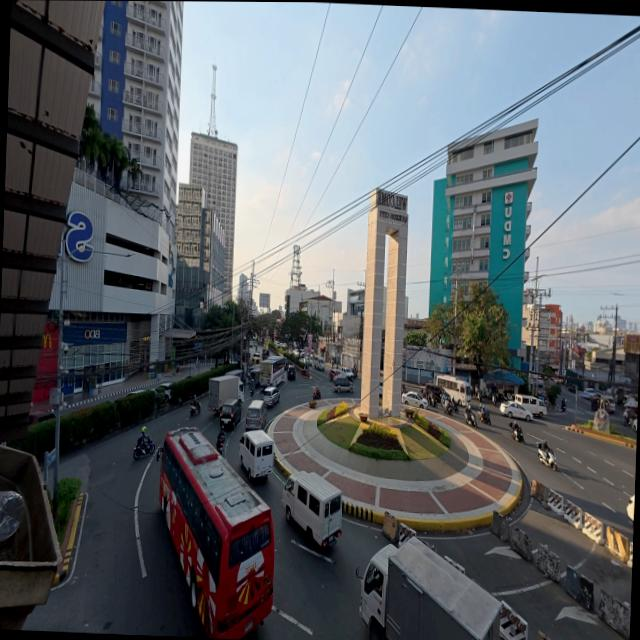bus: (157, 428, 274, 639), (435, 375, 470, 406), (259, 356, 284, 386)
car: (499, 402, 531, 421), (401, 392, 427, 408), (331, 375, 352, 393), (423, 383, 442, 402), (261, 387, 279, 407), (625, 493, 635, 526), (28, 411, 53, 424), (154, 382, 171, 401), (600, 395, 614, 414), (577, 388, 595, 399), (340, 368, 353, 382), (328, 368, 342, 380), (124, 389, 145, 397), (629, 415, 638, 432), (286, 364, 295, 380), (250, 351, 260, 364), (566, 383, 578, 393), (302, 355, 312, 367), (260, 349, 268, 361), (583, 388, 595, 396)
motorcycle: (536, 442, 556, 470), (133, 436, 154, 460), (508, 423, 523, 444), (464, 409, 476, 428), (215, 432, 224, 455), (478, 408, 490, 425), (190, 400, 202, 416), (443, 401, 453, 414), (312, 387, 320, 400), (451, 402, 458, 413), (491, 395, 497, 407), (560, 400, 565, 412), (249, 385, 253, 396)
trucks: (359, 538, 500, 639), (207, 376, 243, 412)
vans: (281, 473, 341, 546), (239, 430, 273, 478), (514, 394, 546, 417), (219, 399, 240, 429), (245, 400, 265, 431), (312, 356, 324, 370)
